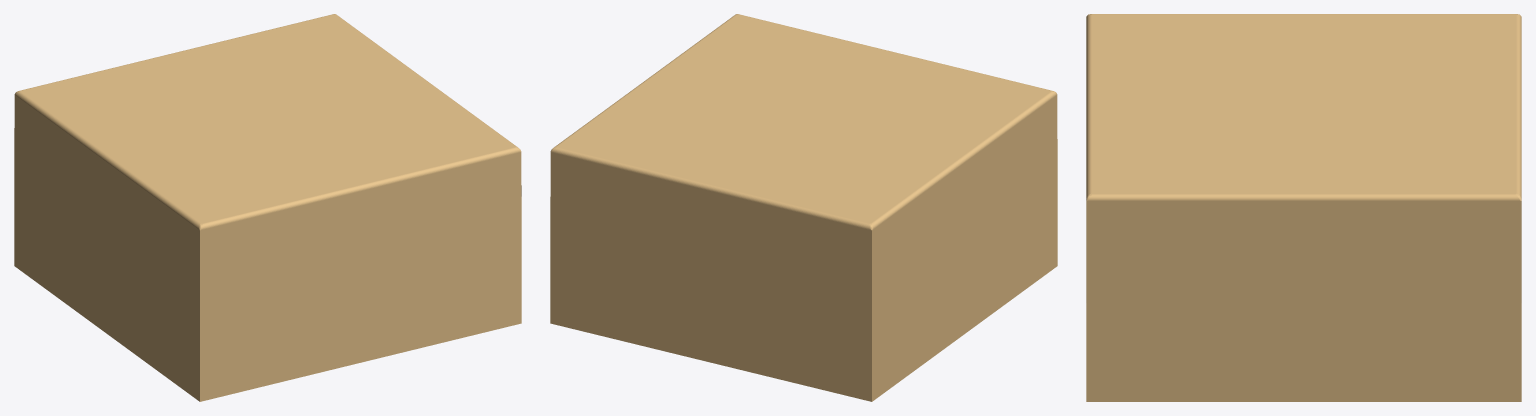
Rendered from lead.glb.
The picture shows the model from 3 angles, left to right: view 1: azimuth 30°, elevation 25°; view 2: azimuth 150°, elevation 25°; view 3: azimuth 270°, elevation 25°; orthographic projection. The views are drawn at different scales.
Parts seen in each view (by area): view 1: lead; view 2: lead; view 3: lead.
Part boxes in pixels (x1,y1,x2,y2): lead: (14, 14, 521, 401); lead: (550, 14, 1057, 401); lead: (1086, 14, 1521, 401).
Bounding box in the file's own units: 0.418 × 0.218 × 0.418.
